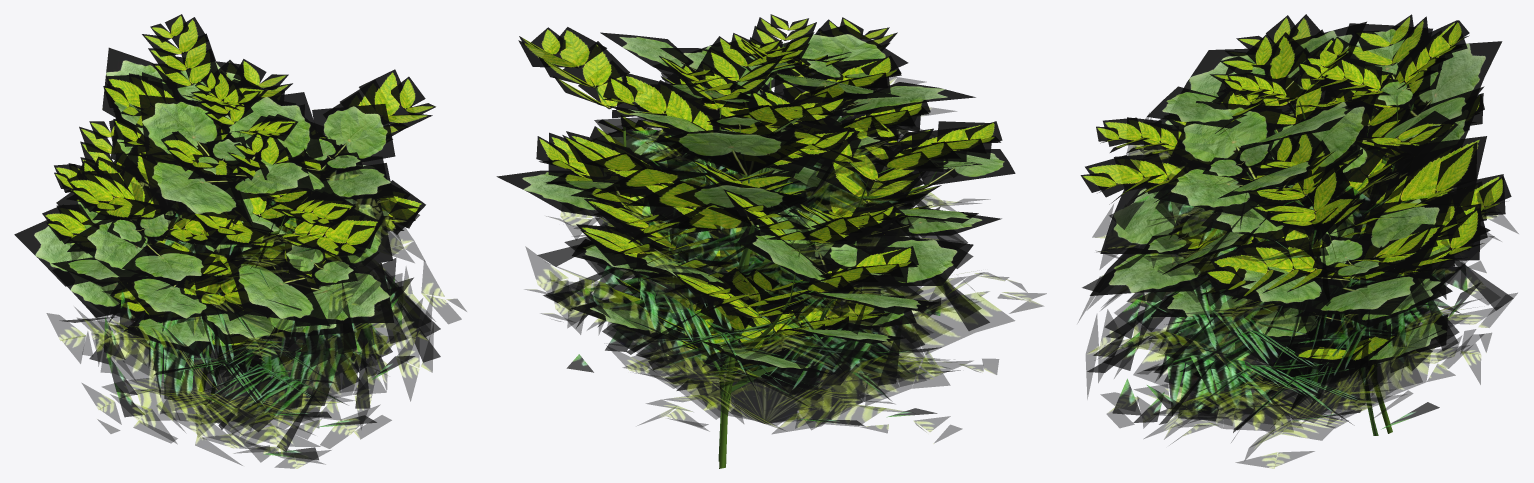
Rendered from bushes.glb.
The picture shows the model from 3 angles, left to right: view 1: azimuth 30°, elevation 25°; view 2: azimuth 150°, elevation 25°; view 3: azimuth 270°, elevation 25°; orthographic projection. The views are drawn at different scales.
Parts seen in each view (by area): view 1: bush_abutilon, bush_fead, bush_cassia, bush_greenfead; view 2: bush_cassia, bush_fead, bush_abutilon, bush_greenfead; view 3: bush_abutilon, bush_cassia, bush_fead, bush_greenfead.
Boxes of the visible parts, x1,y1,x2,y2 form: bush_abutilon: (14, 47, 415, 392); bush_fead: (46, 136, 466, 468); bush_cassia: (42, 14, 435, 391); bush_greenfead: (62, 170, 440, 460); bush_cassia: (518, 14, 1002, 468); bush_fead: (525, 76, 1046, 443); bush_abutilon: (496, 24, 1015, 461); bush_greenfead: (537, 73, 989, 425); bush_abutilon: (1090, 21, 1502, 435); bush_cassia: (1080, 14, 1511, 433); bush_fead: (1078, 110, 1518, 468); bush_greenfead: (1082, 108, 1513, 442).
Size of the model in its own units: 3.18 by 2.91 by 2.89.
7 materials, 4 textured.
